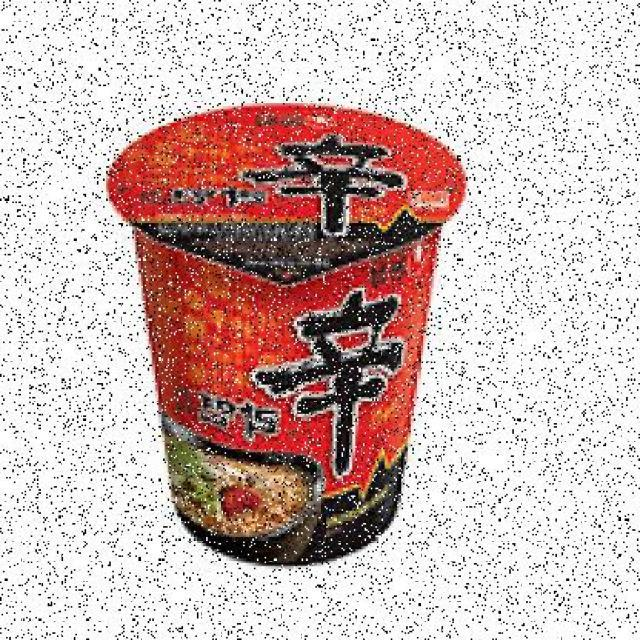Miscellaneous: (106, 97, 457, 574)
